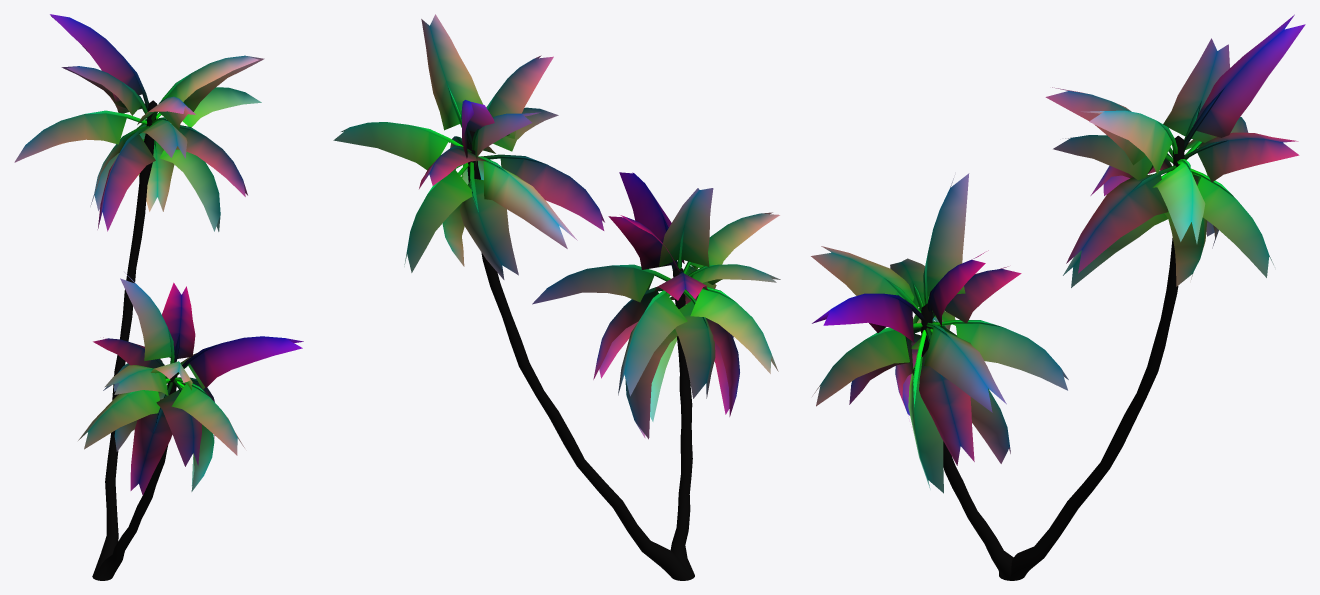
File: M_Palm_1_7.fbx
3 views of the same model, side by side, from view 1: azimuth 30°, elevation 25°; view 2: azimuth 150°, elevation 25°; view 3: azimuth 270°, elevation 25° (orthographic). The views are drawn at different scales.
Visible parts, largest first — view 1: Palm_1_7; view 2: Palm_1_7; view 3: Palm_1_7.
Part boxes in pixels (x1,y1,x2,y2): Palm_1_7: [14, 14, 303, 580]; Palm_1_7: [333, 14, 780, 580]; Palm_1_7: [811, 14, 1305, 580].
Bounding box in the file's own units: 734 × 1189 × 894.
